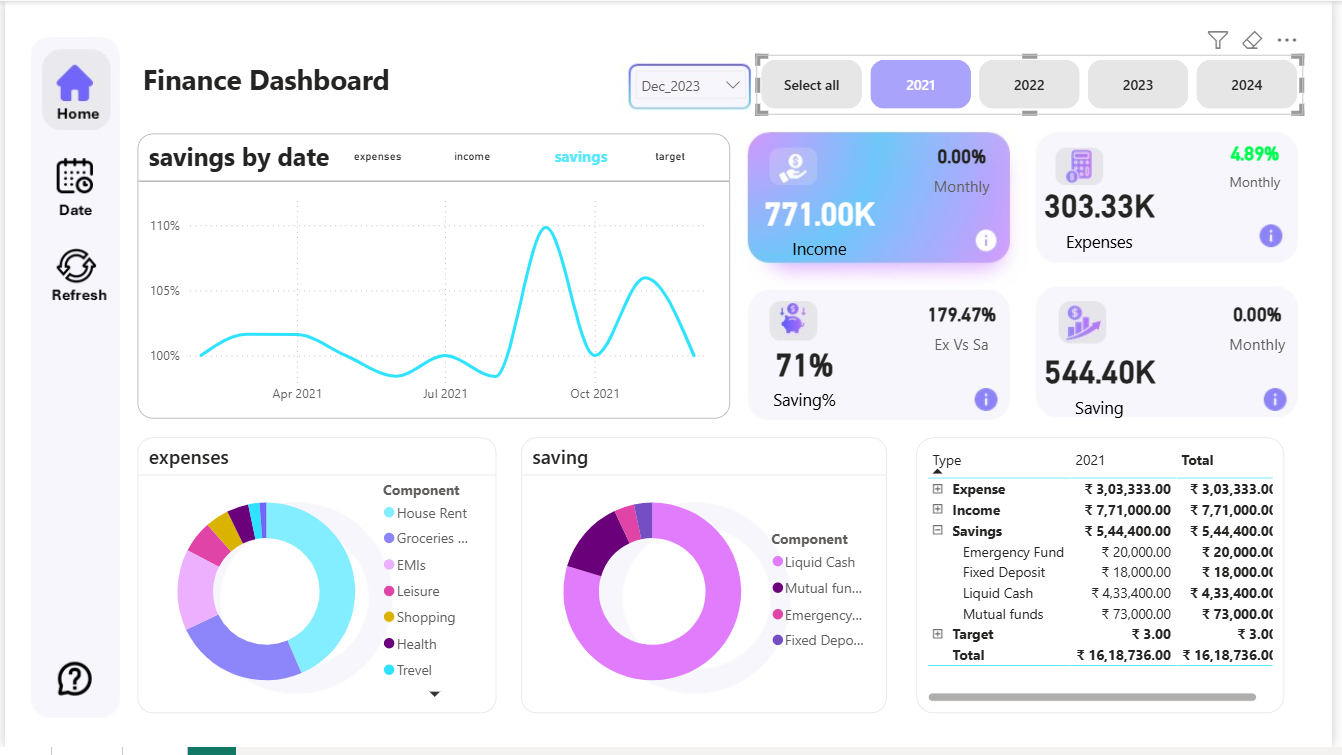

This screenshot's page, from the dashboard's own definition file:
{"tool":"powerbi","page":{"name":"Page 1","canvas":[1280,720],"ordinal":0},"visuals":[{"type":"card","fields":{"Values":["dataset.income"]},"box":[720.1,167.2,131.8,92.8],"z":0},{"type":"card","fields":{"Values":["dataset.saving"]},"box":[997.1,318.5,119.6,97.6],"z":1000},{"type":"card","fields":{"Values":["dataset.expenses"]},"box":[997.1,155,119.6,105],"z":2000},{"type":"card","fields":{"Values":["dataset.saving%"]},"box":[711.5,312.4,119.6,95.2],"z":3000},{"type":"advancedSlicerVisual","fields":{"Values":["dataset.year"]},"box":[725.1,51.9,527.2,57.9],"z":4000},{"type":"donutChart","title":"saving ","fields":{"Category":["dataset.Component"],"Y":["dataset.saving"]},"box":[498.8,421.2,352.5,266.2],"z":5000},{"type":"donutChart","title":"expenses ","fields":{"Category":["dataset.Component"],"Y":["dataset.expenses"]},"box":[127.5,421.2,346.2,266.2],"z":6000},{"type":"pivotTable","fields":{"Values":["dataset.total_value"],"Rows":["dataset.Type","dataset.Component"],"Columns":["dataset.year"]},"box":[880,421.2,355,266.2],"z":7000},{"type":"lineChart","fields":{"Category":["dataset.date.Variation.Date Hierarchy.Year","dataset.date.Variation.Date Hierarchy.Quarter","dataset.date.Variation.Date Hierarchy.Month","dataset.date.Variation.Date Hierarchy.Day"],"Y":["dataset.line_chart_measures"]},"box":[127.9,127.9,571.9,275.1],"z":8000},{"type":"advancedSlicerVisual","fields":{"Values":["line_selection_Table.type"]},"box":[318.5,119.4,393.3,60.3],"z":9000},{"type":"textbox","box":[127.9,51.9,271.4,57.9],"z":10000},{"type":"slicer","fields":{"Values":["Selected_date.month & year"]},"box":[598.4,56.7,126.7,53.1],"z":10002},{"type":"card","fields":{"Values":["dataset.Expenses_monthly_growth"]},"box":[1160.6,119.4,91.7,74.8],"z":10003},{"type":"card","title":"monthly","fields":{"Values":["dataset.Income_monthly_growth"]},"box":[871.4,128.1,105,65.9],"z":10004},{"type":"card","fields":{"Values":["dataset.Saving_monthly_gr"]},"box":[1147.3,275.1,123.1,76],"z":10005},{"type":"card","fields":{"Values":["dataset.Ex_Vs_Saving"]},"box":[871.1,283.5,105,59.1],"z":10006}]}

Visuals, with their boxes on the page's 1280x720 design canvas (x1, y1, x2, y2). These are canvas units, not pixel positions in the 1342x755 screenshot, which may show the page scaled, cropped or inside an application window:
card - dataset.income: Rect(720, 167, 852, 260)
card - dataset.saving: Rect(997, 318, 1117, 416)
card - dataset.expenses: Rect(997, 155, 1117, 260)
card - dataset.saving%: Rect(712, 312, 831, 408)
advancedSlicerVisual - dataset.year: Rect(725, 52, 1252, 110)
"saving " donutChart: Rect(499, 421, 851, 687)
"expenses " donutChart: Rect(128, 421, 474, 687)
pivotTable - dataset.total_value x dataset.Type: Rect(880, 421, 1235, 687)
lineChart - dataset.date.Variation.Date Hierarchy.Year x dataset.date.Variation.Date Hierarchy.Quarter: Rect(128, 128, 700, 403)
advancedSlicerVisual - line_selection_Table.type: Rect(318, 119, 712, 180)
textbox: Rect(128, 52, 399, 110)
slicer - Selected_date.month & year: Rect(598, 57, 725, 110)
card - dataset.Expenses_monthly_growth: Rect(1161, 119, 1252, 194)
"monthly" card: Rect(871, 128, 976, 194)
card - dataset.Saving_monthly_gr: Rect(1147, 275, 1270, 351)
card - dataset.Ex_Vs_Saving: Rect(871, 284, 976, 343)
